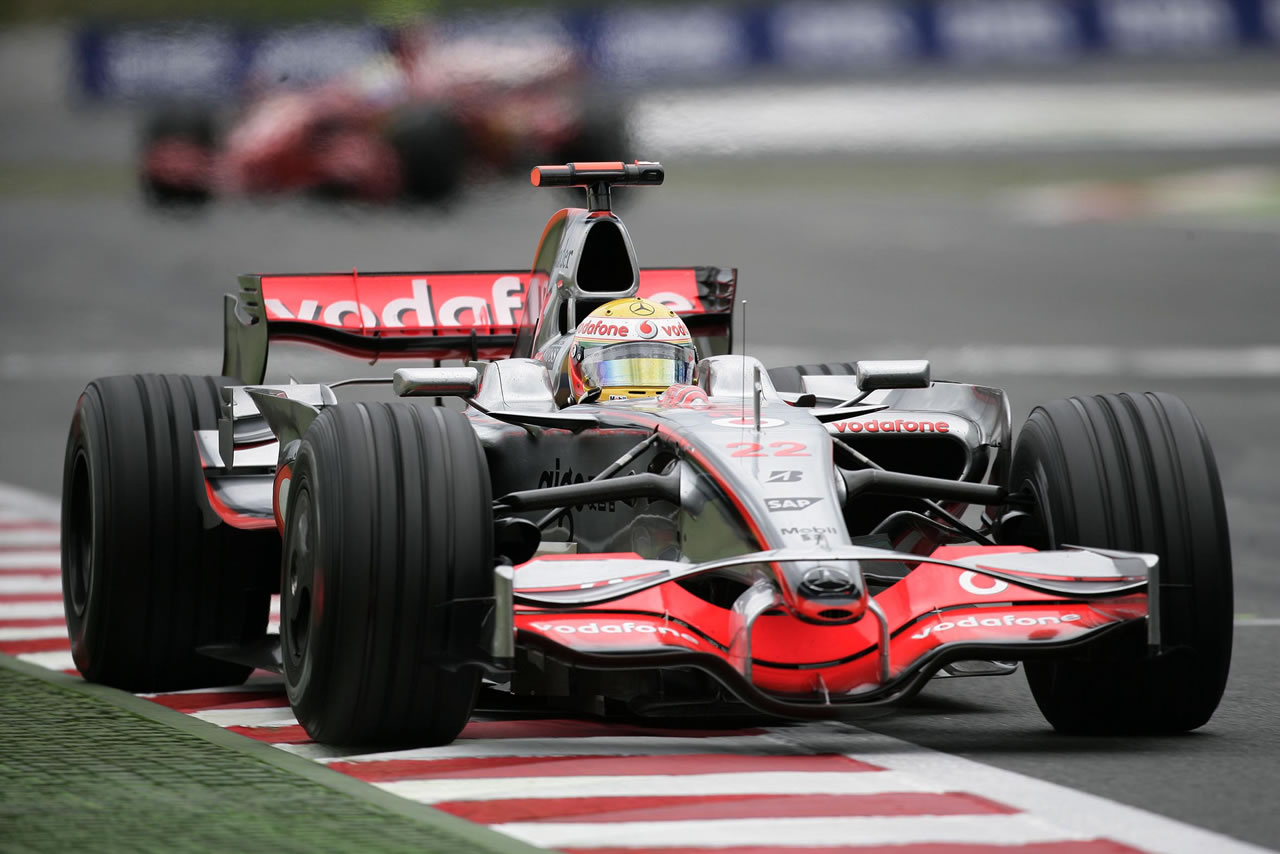F1 Car: (51, 150, 1246, 752)
